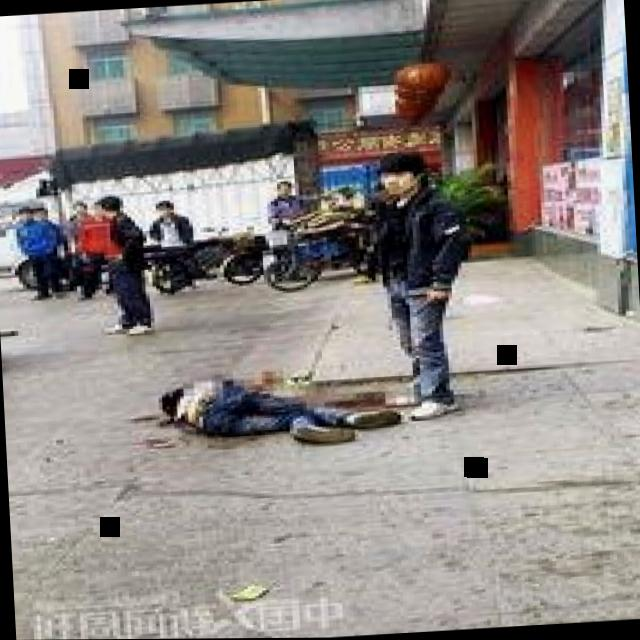Fall-Detected: (149, 342, 420, 454)
